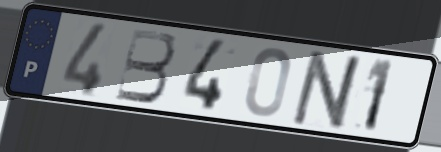0: (242, 45, 294, 120)
1: (362, 57, 396, 137)
4: (59, 19, 111, 99), (179, 37, 229, 114)
B: (112, 26, 177, 106)
N: (287, 48, 370, 134)
